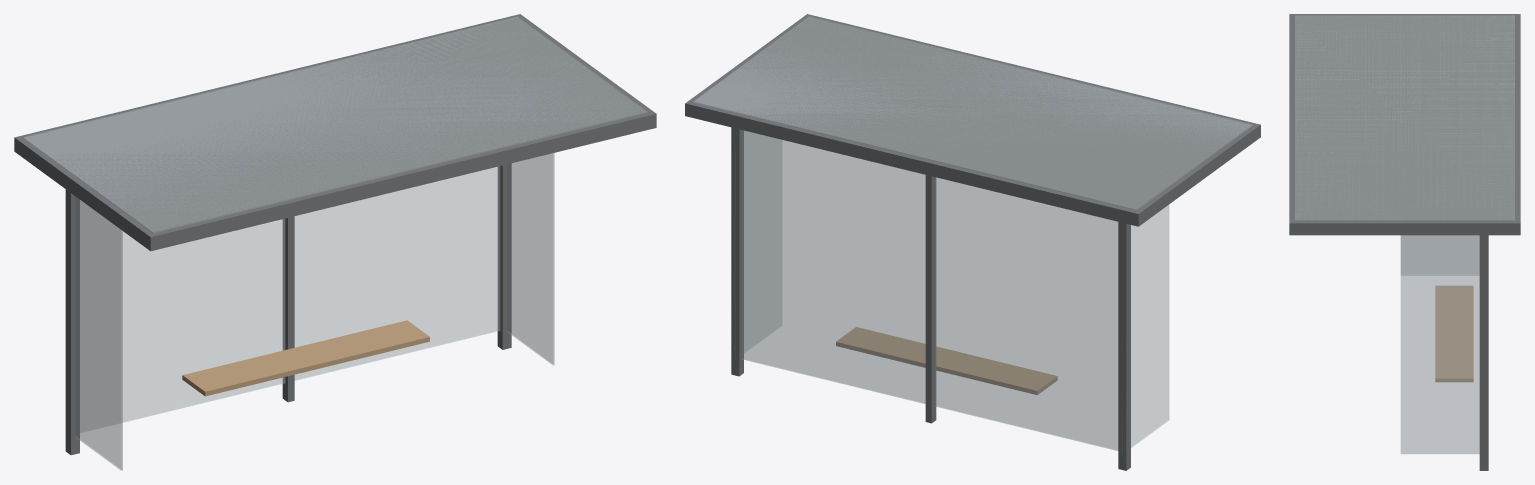
Rendered from tram-bus-shelter.gltf.
3 views of the same model, side by side, from view 1: azimuth 30°, elevation 25°; view 2: azimuth 150°, elevation 25°; view 3: azimuth 270°, elevation 25° (orthographic). The views are drawn at different scales.
Visible parts, largest first — view 1: tram-bus-shelter; view 2: tram-bus-shelter; view 3: tram-bus-shelter.
Boxes of the visible parts, x1,y1,x2,y2 form: tram-bus-shelter: [14, 14, 656, 470]; tram-bus-shelter: [685, 14, 1260, 470]; tram-bus-shelter: [1289, 14, 1520, 470].
Bounding box in the file's own units: 4.5 × 2.63 × 2.1.
